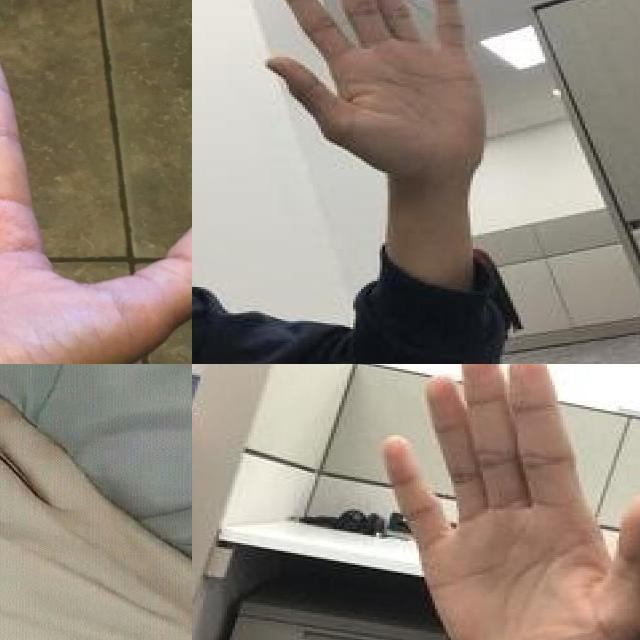hand: (342, 364, 640, 640), (0, 22, 192, 364), (0, 364, 192, 640), (262, 0, 492, 175)
